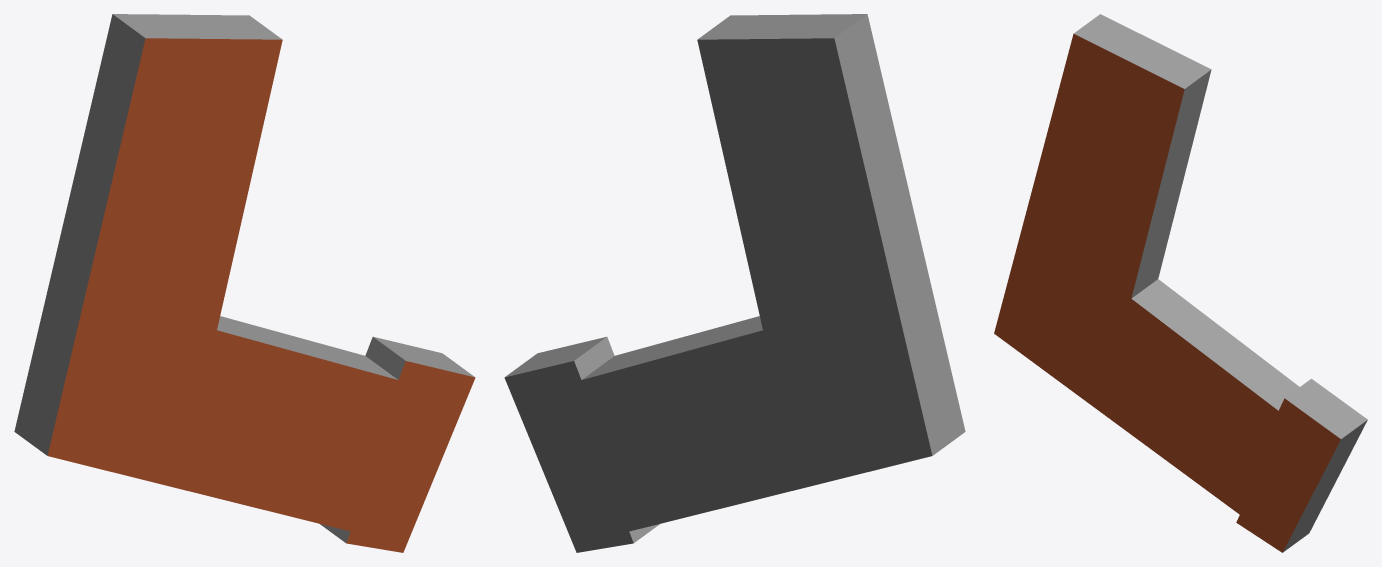
The model's file is construction_5315_assumed_A_Casa_h6m.obj.
The picture shows the model from 3 angles, left to right: view 1: azimuth 30°, elevation 25°; view 2: azimuth 150°, elevation 25°; view 3: azimuth 330°, elevation 25°; orthographic projection. The views are drawn at different scales.
Visible parts, largest first — view 1: construction_5315_assumed_A_Casa; view 2: construction_5315_assumed_A_Casa; view 3: construction_5315_assumed_A_Casa.
Boxes of the visible parts, left/top/right/bottom form: construction_5315_assumed_A_Casa: left=14, top=14, right=475, bottom=552; construction_5315_assumed_A_Casa: left=504, top=14, right=965, bottom=552; construction_5315_assumed_A_Casa: left=994, top=14, right=1367, bottom=552.
Bounding box in the file's own units: 44.75 × 57.7 × 6.
